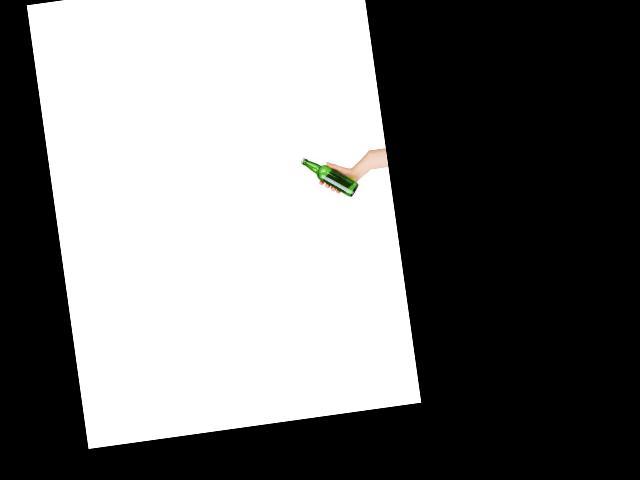beer: (301, 150, 361, 201)
